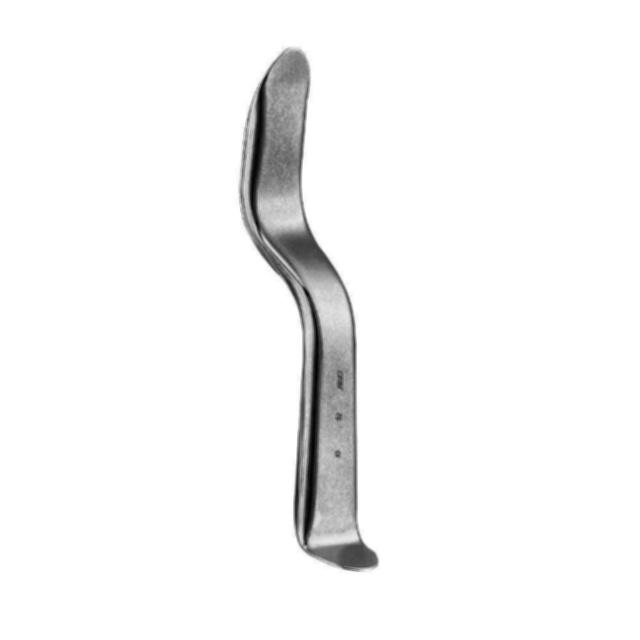separador: (239, 47, 382, 574)
